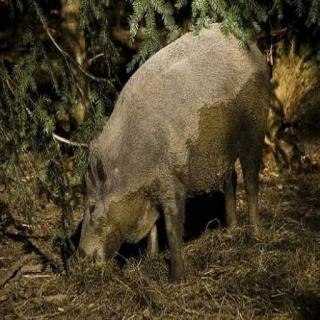Pig: (54, 12, 278, 286)
